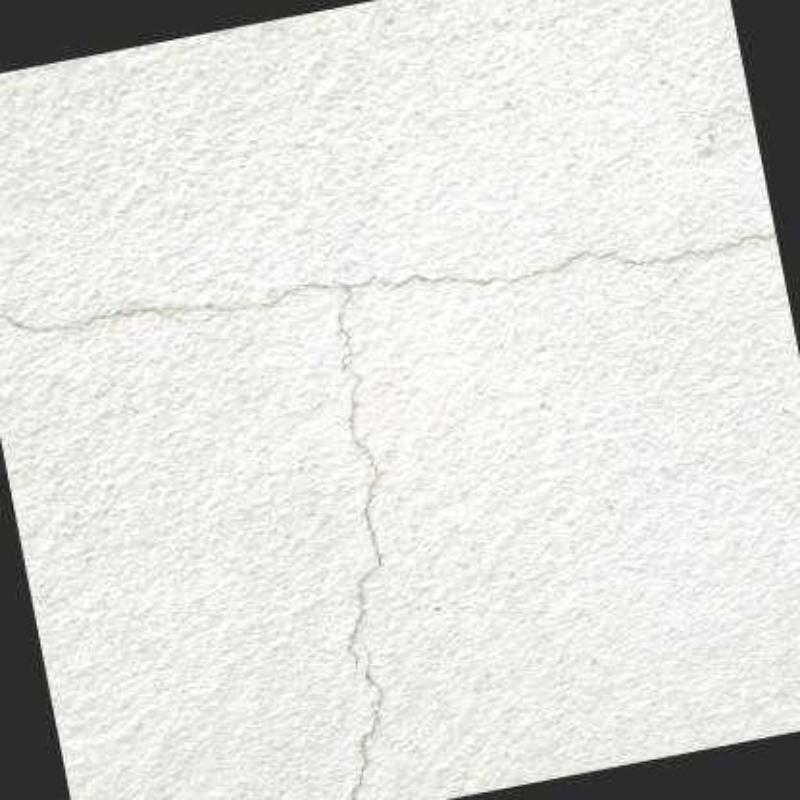pothole: (0, 228, 776, 674), (343, 641, 387, 798)
